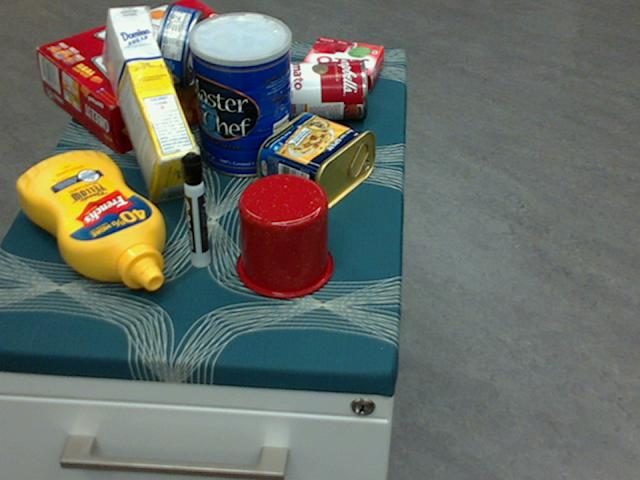cracker_box: (38, 0, 270, 154)
gelatin_box: (300, 39, 383, 91)
large_marker: (179, 151, 209, 266)
master_chef_can: (189, 11, 292, 177)
mug: (233, 172, 332, 298)
mustard_bottle: (16, 151, 164, 289)
potted_meat_can: (256, 109, 375, 211)
sugar_box: (102, 6, 201, 201)
tomato_soup_can: (274, 58, 367, 120)
tuna_fish_can: (153, 2, 205, 88)
